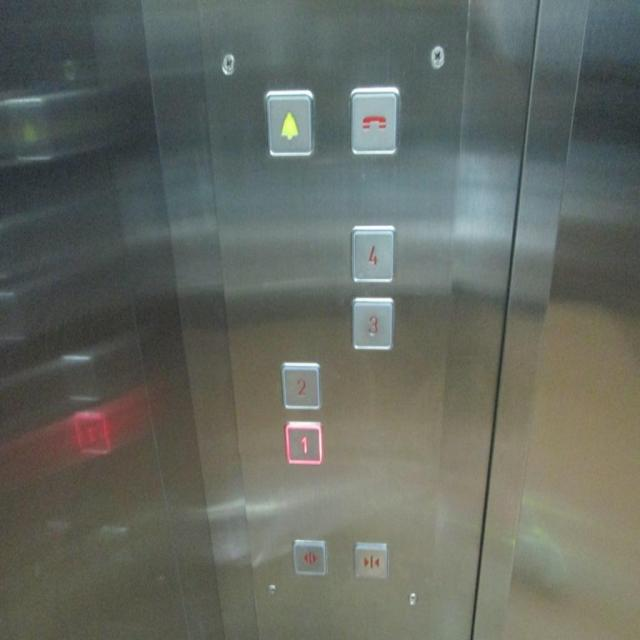1: (282, 418, 324, 467)
2: (280, 358, 322, 413)
3: (352, 294, 394, 354)
4: (350, 222, 396, 285)
alarm: (263, 83, 314, 162)
call: (346, 81, 400, 160)
close: (352, 539, 390, 580)
open: (291, 535, 327, 576)
unknown: (0, 92, 55, 161), (69, 408, 112, 458), (60, 354, 100, 407)
